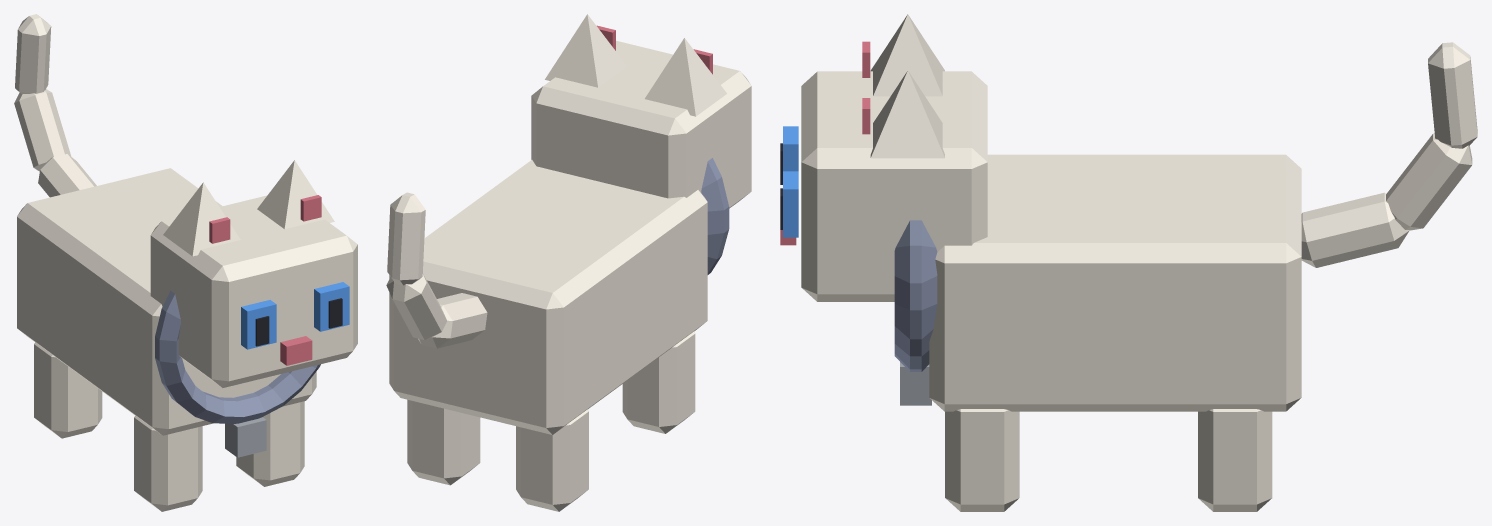
Rendered from CatCafe_Cat_Snow.glb.
3 views of the same model, side by side, from view 1: azimuth 30°, elevation 25°; view 2: azimuth 150°, elevation 25°; view 3: azimuth 270°, elevation 25° (orthographic). The views are drawn at different scales.
Parts seen in each view (by area): view 1: CatCafe_Cat_Snow_Body, CatCafe_Cat_Snow_Head, CatCafe_Cat_Snow_Tail; view 2: CatCafe_Cat_Snow_Body, CatCafe_Cat_Snow_Head, CatCafe_Cat_Snow_Tail; view 3: CatCafe_Cat_Snow_Body, CatCafe_Cat_Snow_Head, CatCafe_Cat_Snow_Tail.
Part boxes in pixels (x1,y1,x2,y2): CatCafe_Cat_Snow_Body: (17,168,320,511); CatCafe_Cat_Snow_Head: (150,160,357,387); CatCafe_Cat_Snow_Tail: (14,14,96,197); CatCafe_Cat_Snow_Body: (389,158,729,511); CatCafe_Cat_Snow_Head: (531,14,751,208); CatCafe_Cat_Snow_Tail: (386,192,487,348); CatCafe_Cat_Snow_Body: (894,154,1301,511); CatCafe_Cat_Snow_Head: (780,14,987,301); CatCafe_Cat_Snow_Tail: (1301,42,1477,267).
Bounding box in the file's own units: 0.97 × 1.78 × 2.62.
Materials: 1 (1 with a texture image).
